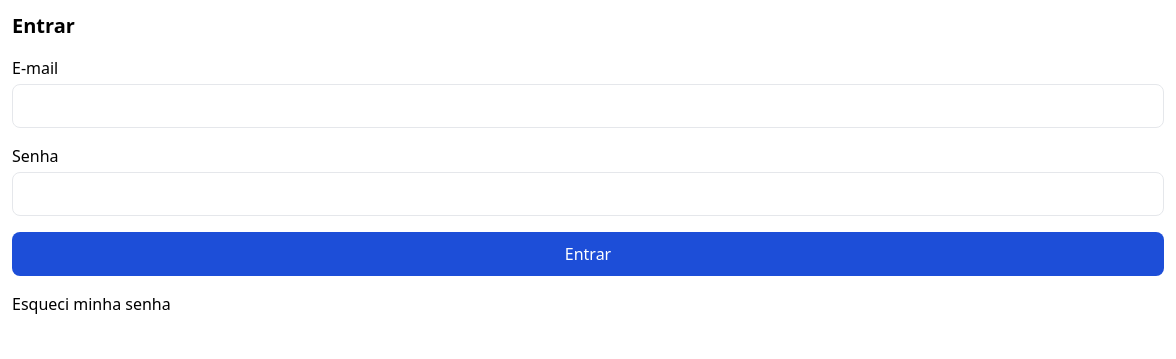
Login › Deve exibir erro de e-mail inválido
Type "nao-e-um-email" into the field with id "email". click: (588, 106)
box: [12, 84, 1164, 128]
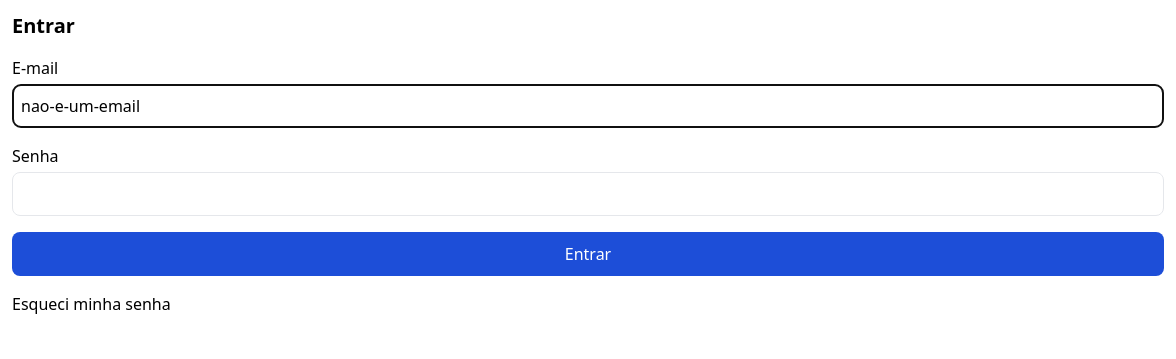
Type "senha123" into the password field labelled "Senha". click: (588, 194)
box: [12, 172, 1164, 216]
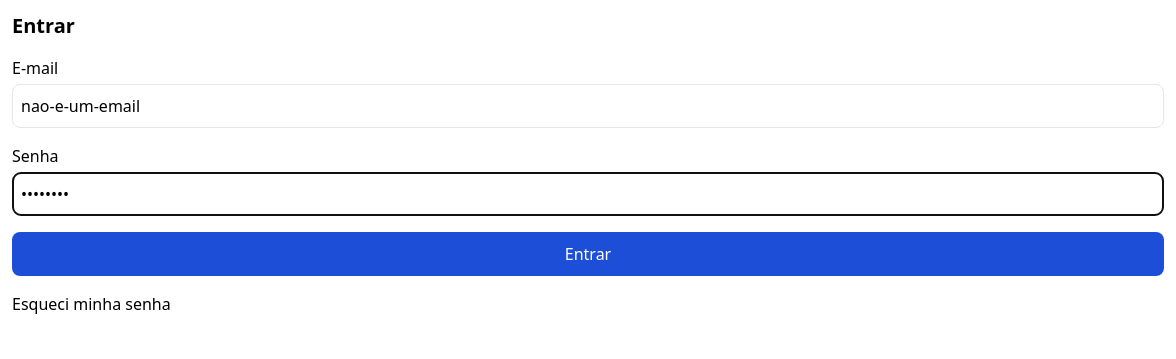
Click the button "Entrar". click: (588, 254)
box: [12, 232, 1164, 276]
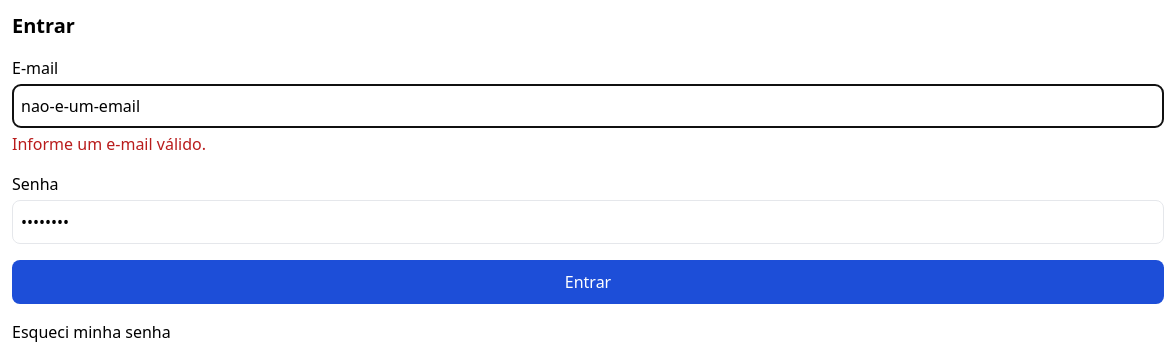
Expected: the text "Informe um e-mail válido." is shown, [12, 133, 206, 155]
